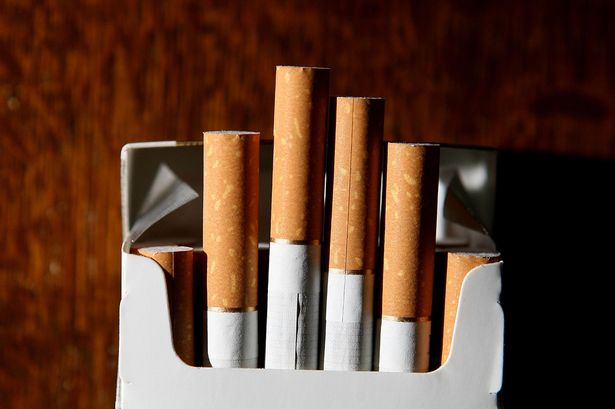cigarette: (261, 49, 333, 394), (192, 112, 262, 409), (384, 104, 440, 391), (324, 83, 376, 389)
